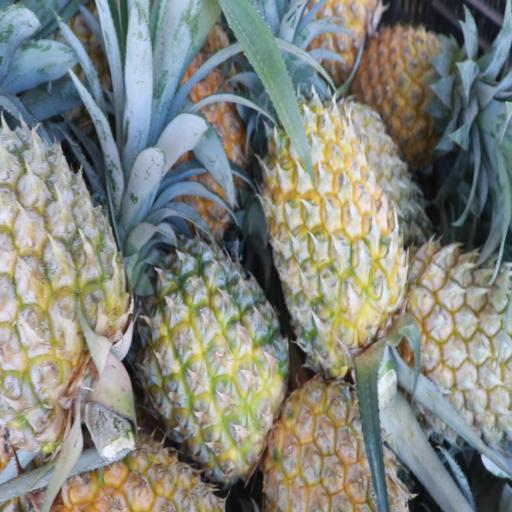------------------------------: (0, 132, 122, 455), (147, 246, 292, 467), (399, 238, 512, 434)
Pineapple - v8 v1: (264, 107, 398, 354), (270, 376, 409, 512), (361, 16, 472, 162)
